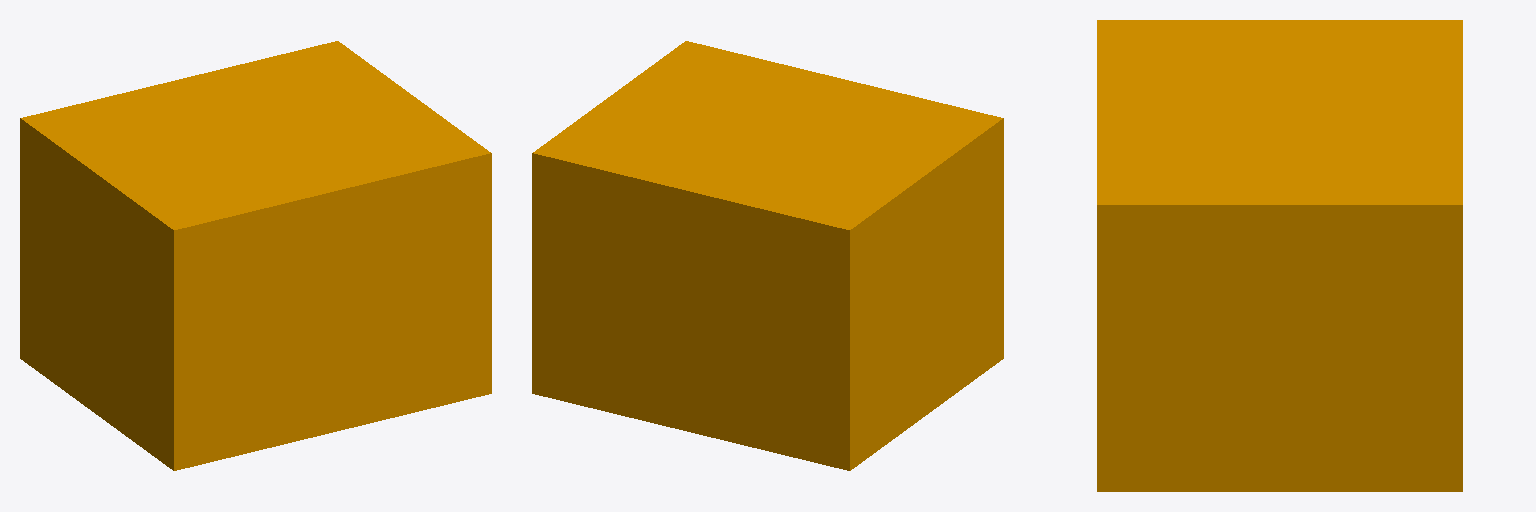
URDF robot description (object):
<?xml version="1.0"?>
<!-- Auto-generated by tools/gen_primitive_objects.py. kind=box dims=(0.080789, 0.067668, 0.058535) -->
<robot name="object">
  <link name="object">
    <visual>
      <origin xyz="0 0 0"/>
      <geometry>
        <box size="0.080789 0.067668 0.058535"/>
      </geometry>
    </visual>
    <collision>
      <origin xyz="0 0 0"/>
      <geometry>
        <box size="0.080789 0.067668 0.058535"/>
      </geometry>
    </collision>
    <inertial>
      <mass value="0.064000"/>
      <inertia ixx="0.00004270" ixy="0.0" ixz="0.0" iyy="0.00005308" iyz="0.0" izz="0.00005923"/>
    </inertial>
  </link>
</robot>

--- What the picture shows (computed from the rendered views, not written in the file) ---
Views: 3 orthographic renders of the robot side by side, from view 1: azimuth 30°, elevation 25°; view 2: azimuth 150°, elevation 25°; view 3: azimuth 270°, elevation 25°.
Model object with 1 links and 0 joints (none), rooted at object, posed every joint at zero.
Visible links, largest first — view 1: object; view 2: object; view 3: object.
Boxes of the visible links, x1,y1,x2,y2 form: object: (20, 41, 491, 470); object: (532, 41, 1003, 470); object: (1097, 20, 1462, 491).
Size in the robot's own frame: 0.0808 by 0.0677 by 0.0585 metres.
Geometry: primitives only (box / cylinder / sphere), no mesh files.
